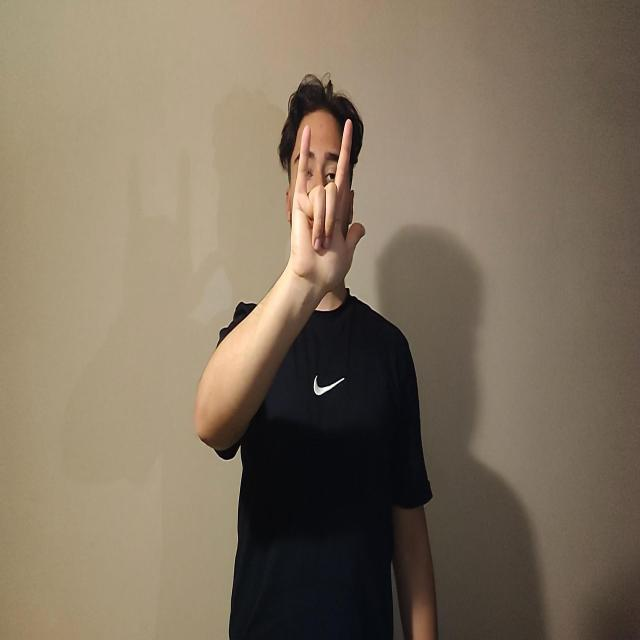iloveyou: (289, 118, 366, 294)
